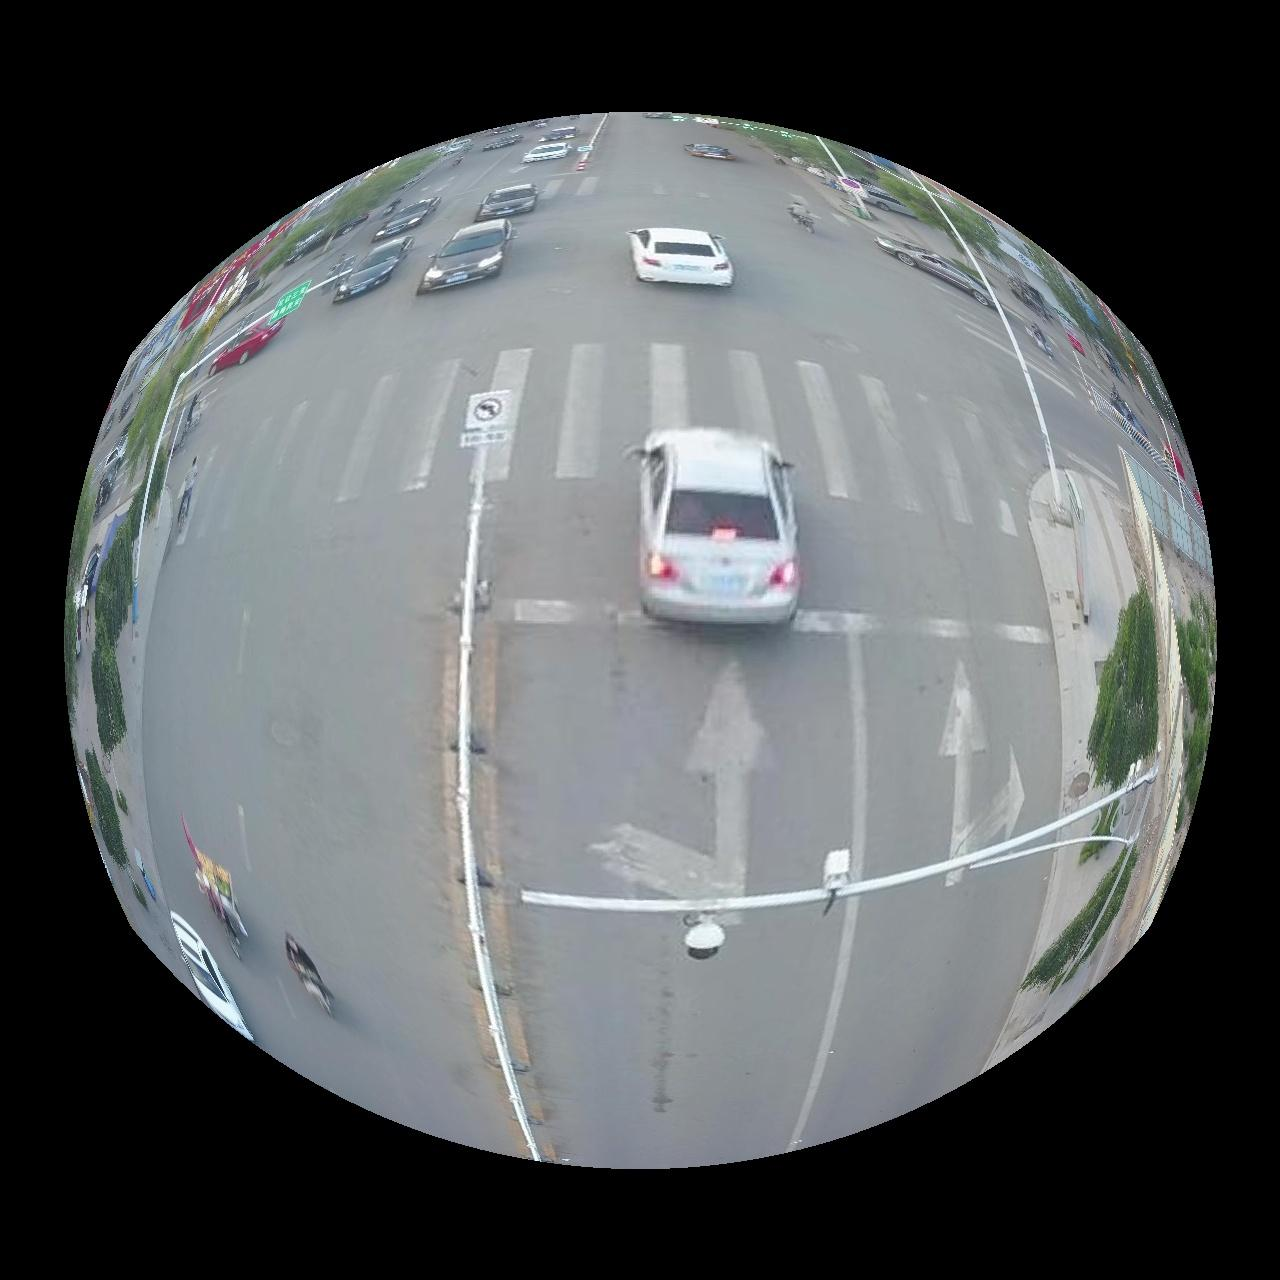cars: (641, 427, 801, 624), (169, 913, 252, 1043), (877, 237, 995, 307), (416, 218, 513, 293), (629, 226, 734, 285), (332, 237, 411, 302), (207, 316, 284, 374), (373, 197, 440, 240), (476, 182, 538, 220), (523, 141, 571, 162), (685, 142, 736, 158)
trees: (1090, 587, 1160, 789), (90, 518, 136, 755)
